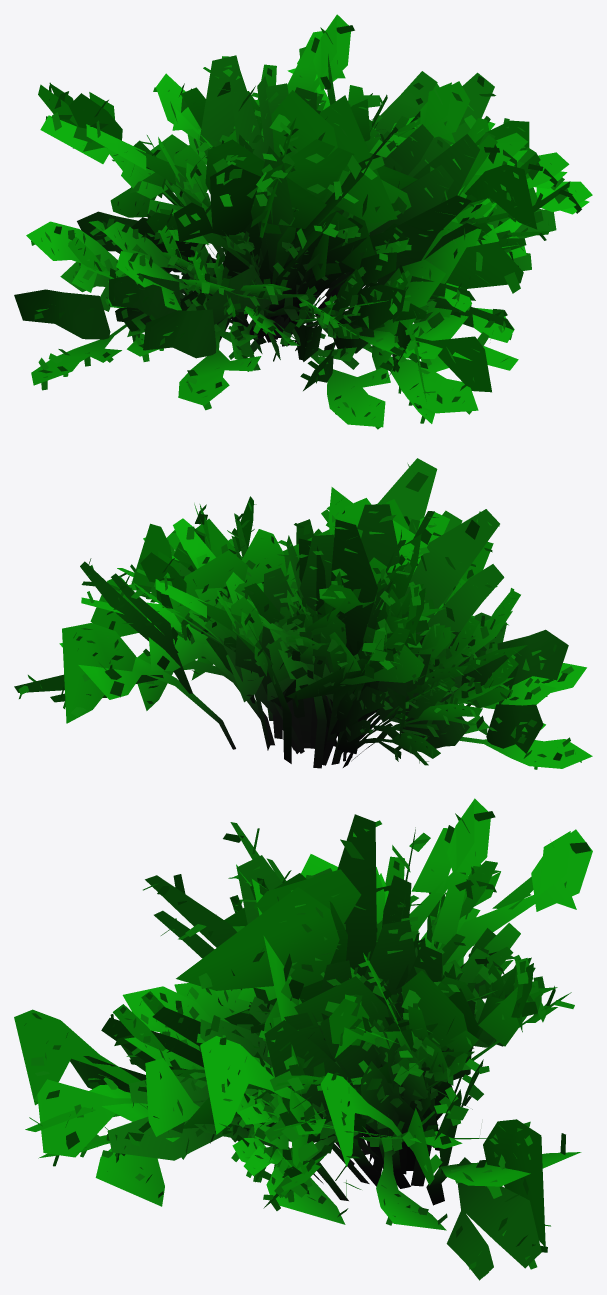
Rendered from TTFE_RedBush.fbx.
The picture shows the model from 3 angles, top to bottom: view 1: azimuth 30°, elevation 25°; view 2: azimuth 150°, elevation 25°; view 3: azimuth 270°, elevation 25°; orthographic projection. The views are drawn at different scales.
Visible parts, largest first — view 1: TTFE_RedBush; view 2: TTFE_RedBush; view 3: TTFE_RedBush.
Boxes of the visible parts, bbox=[...] form: TTFE_RedBush: bbox=[14, 14, 592, 429]; TTFE_RedBush: bbox=[14, 458, 592, 769]; TTFE_RedBush: bbox=[14, 798, 592, 1280].
Bounding box in the file's own units: 3.52 × 1.78 × 2.85.
